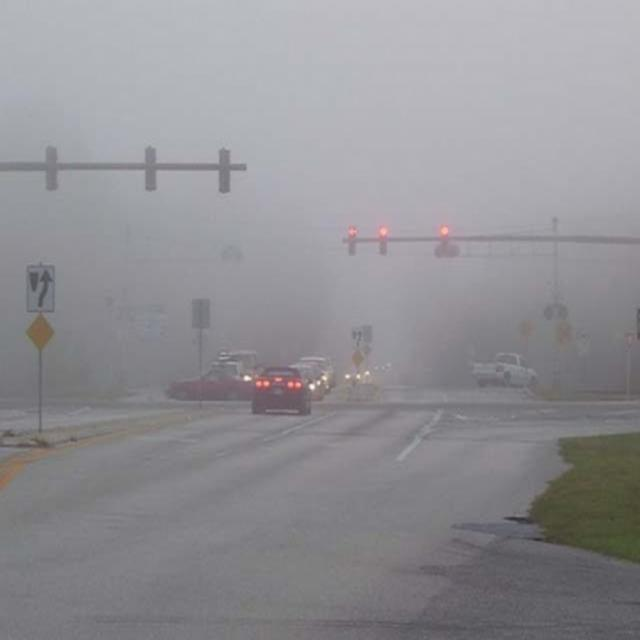car: (251, 362, 312, 415), (163, 363, 252, 398), (471, 350, 536, 386), (206, 348, 256, 377), (290, 362, 322, 399), (297, 358, 331, 391), (297, 357, 334, 377), (339, 362, 360, 381), (207, 357, 237, 365)
pole: (34, 347, 44, 435)
